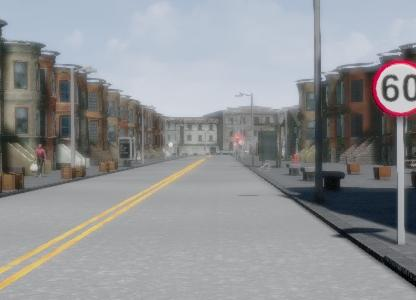Speed_60: (392, 51, 416, 114)
